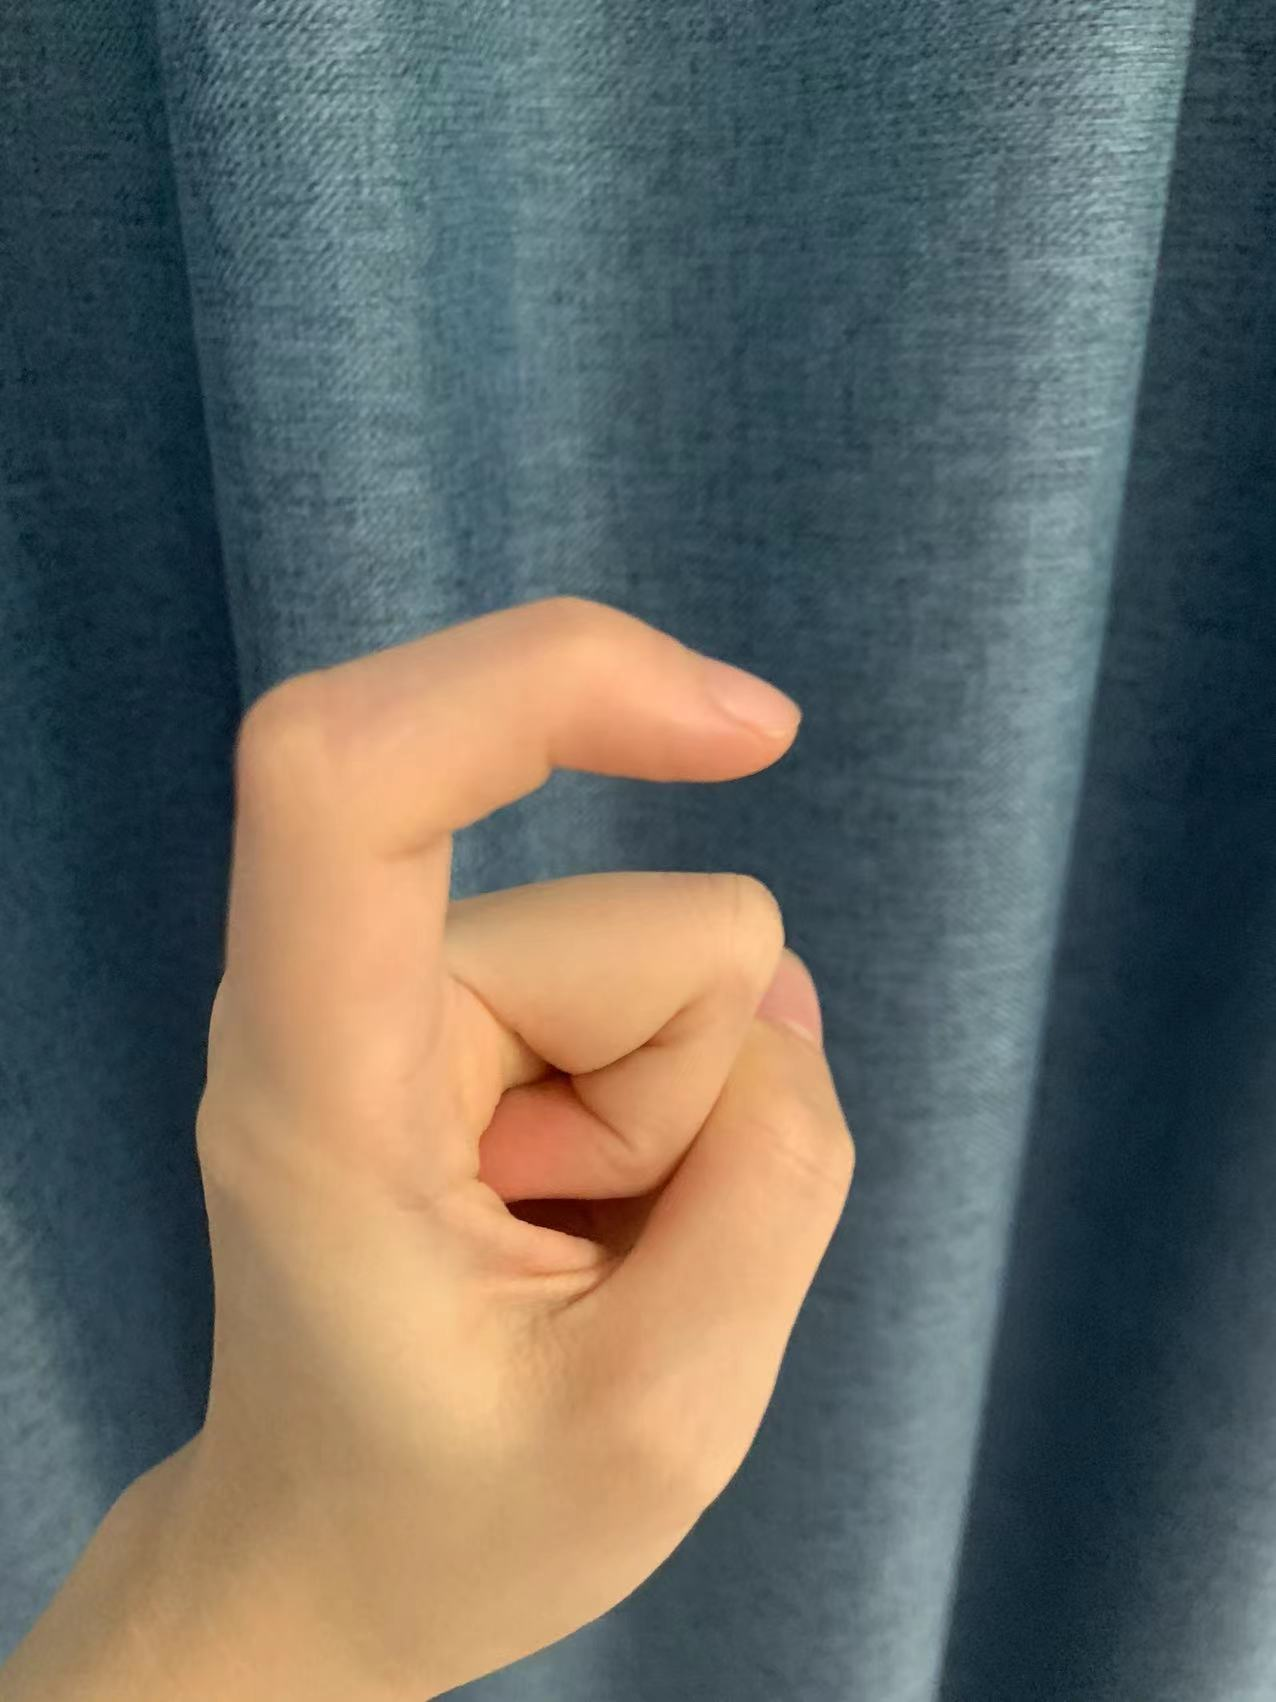anticlockwise: (159, 584, 893, 1533)
